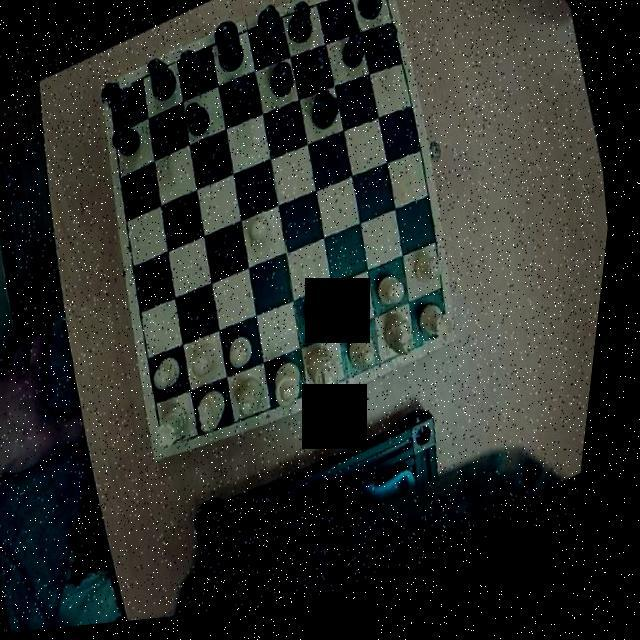chess-table-corners: (157, 422, 202, 467), (100, 76, 142, 120), (424, 324, 468, 366), (359, 0, 394, 11)
